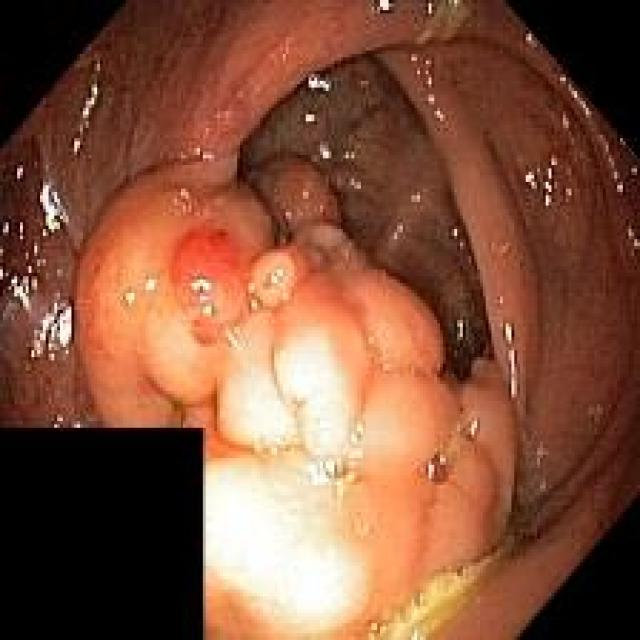Polyps: (75, 156, 518, 640)
